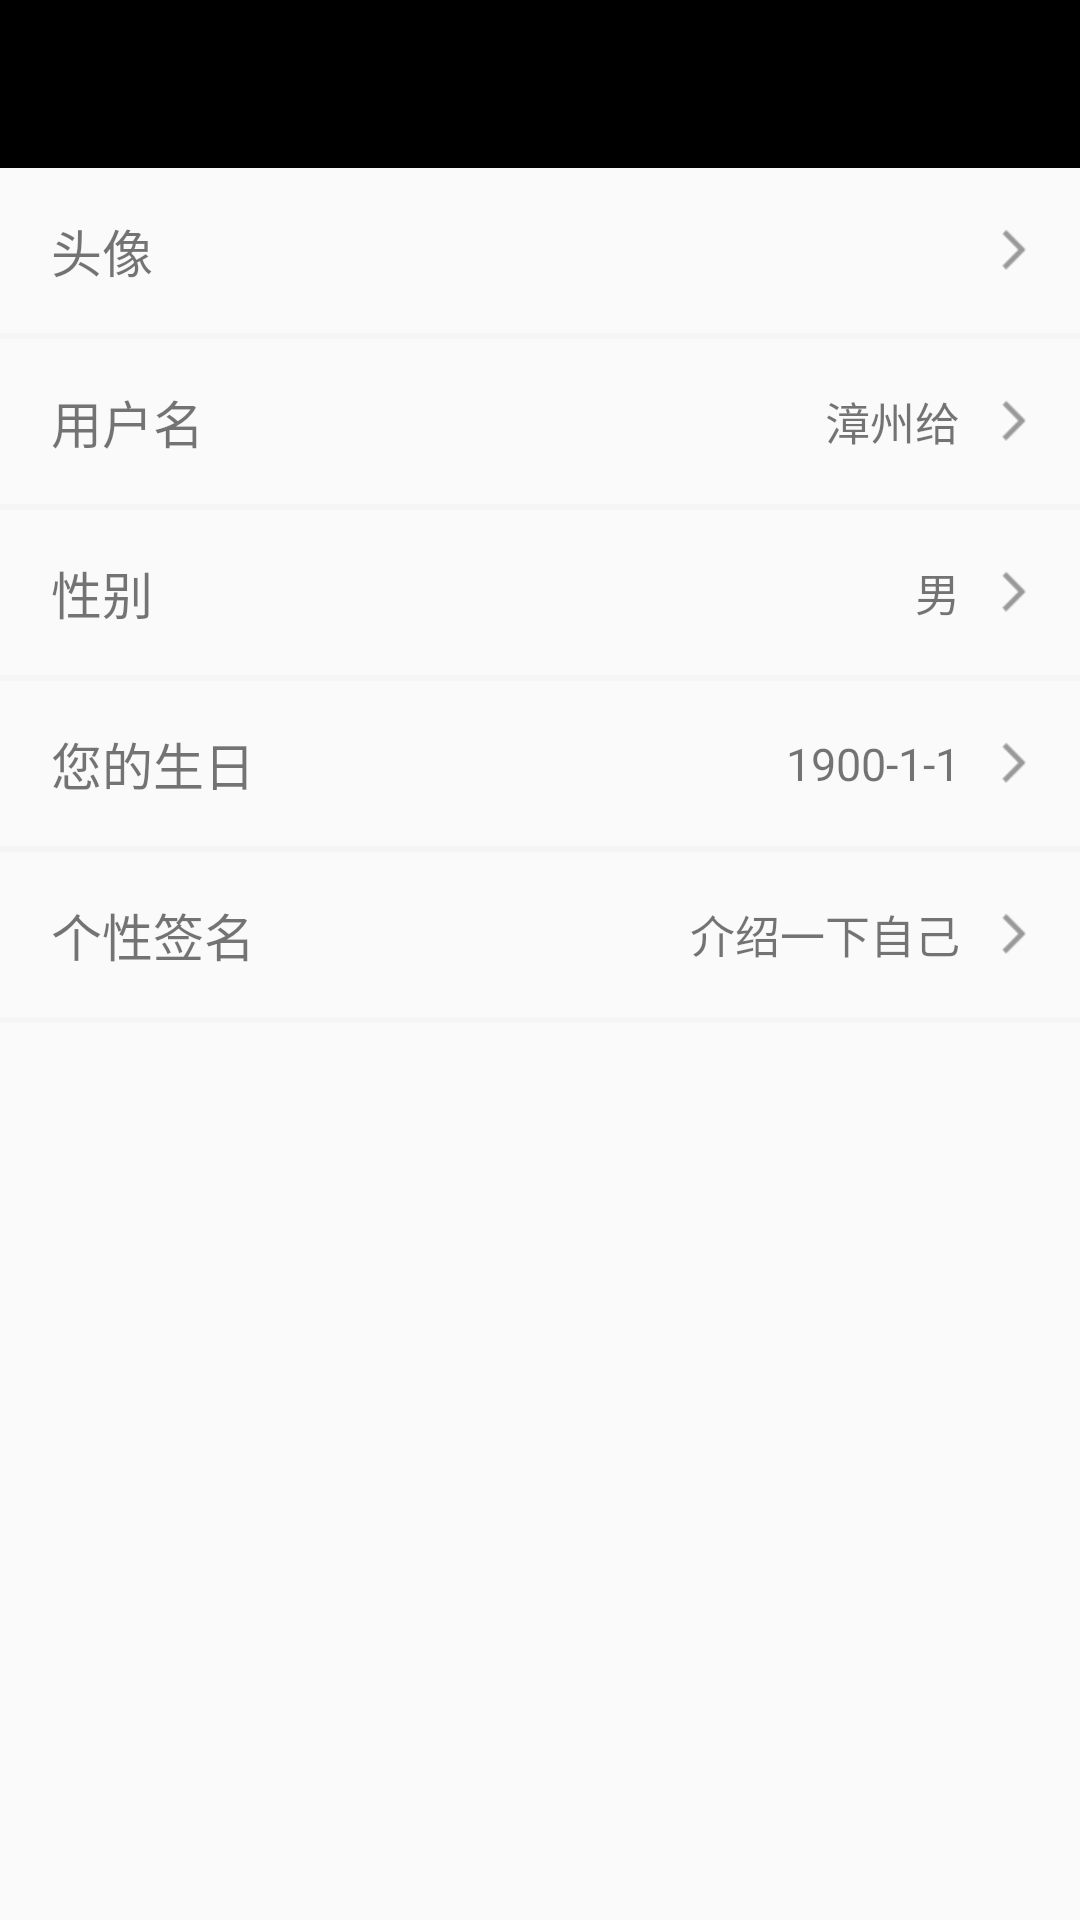

Locate icon controls on the screen. Image size 1080 × 1920, boxes as (x1, y1, x2, y2).
arrow right: (1002, 230, 1025, 270), (1002, 401, 1025, 441), (1002, 572, 1025, 612), (1002, 743, 1025, 783), (1002, 914, 1025, 954)
